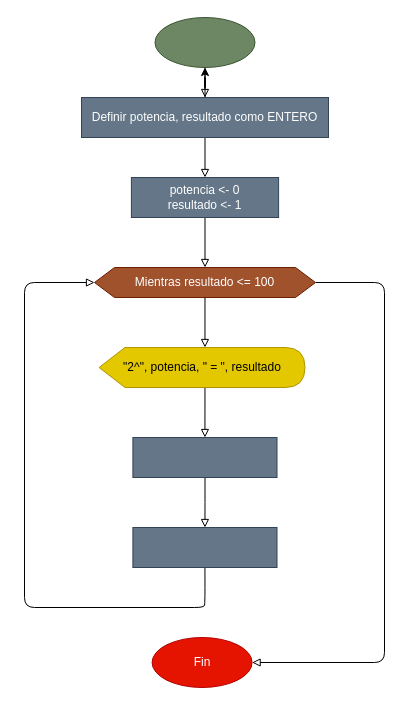
Image size: 410x705. Some labels were removed from this diagram. Each missing label, with the centre of its shape:
"Inicio" belongs at point (204, 42).
"potencia <- potencia + 1" belongs at point (204, 457).
"resultado <- resultado * 2" belongs at point (204, 547).
